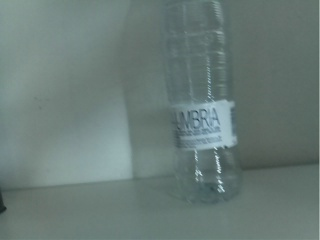botella plastico: (165, 1, 243, 201)
